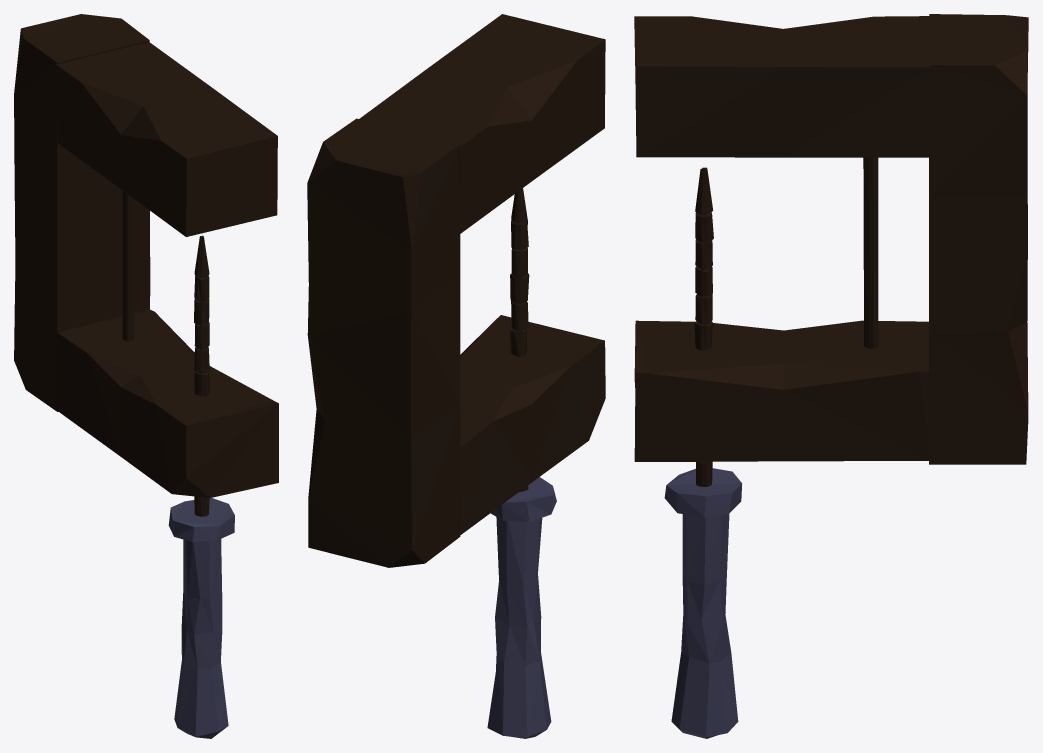
The model's file is SFFA_Tool_006.fbx.
3 renders of one model, left to right at view 1: azimuth 30°, elevation 25°; view 2: azimuth 150°, elevation 25°; view 3: azimuth 270°, elevation 25°, orthographic. The views are drawn at different scales.
Parts seen in each view (by area): view 1: SFFA_Tool_006; view 2: SFFA_Tool_006; view 3: SFFA_Tool_006.
Part boxes in pixels (x1,y1,x2,y2): SFFA_Tool_006: (14, 14, 278, 738); SFFA_Tool_006: (307, 14, 605, 738); SFFA_Tool_006: (634, 14, 1028, 738).
Size of the model in its own units: 7.03 by 43.61 by 22.46.
